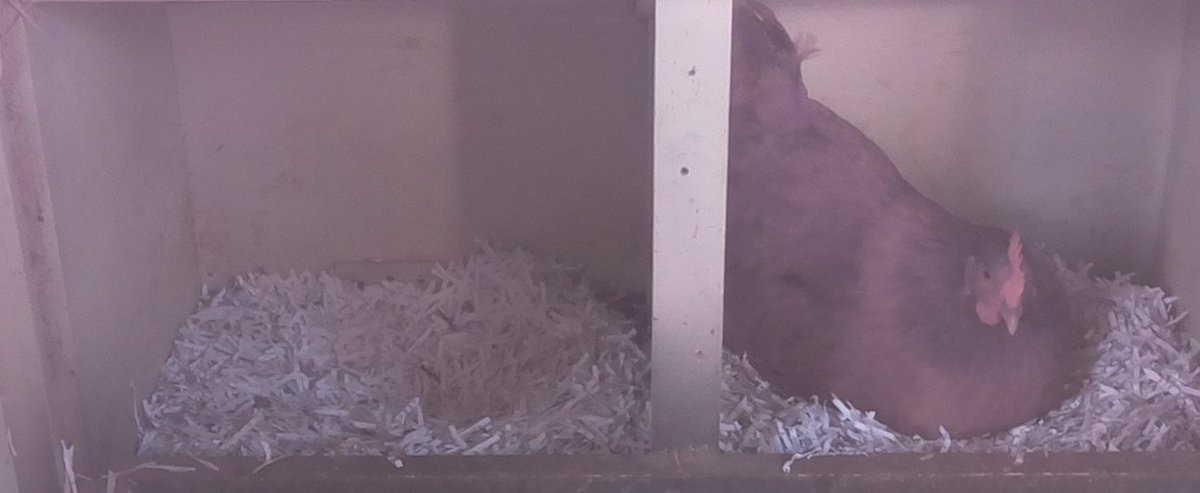hen: (731, 9, 1084, 441)
